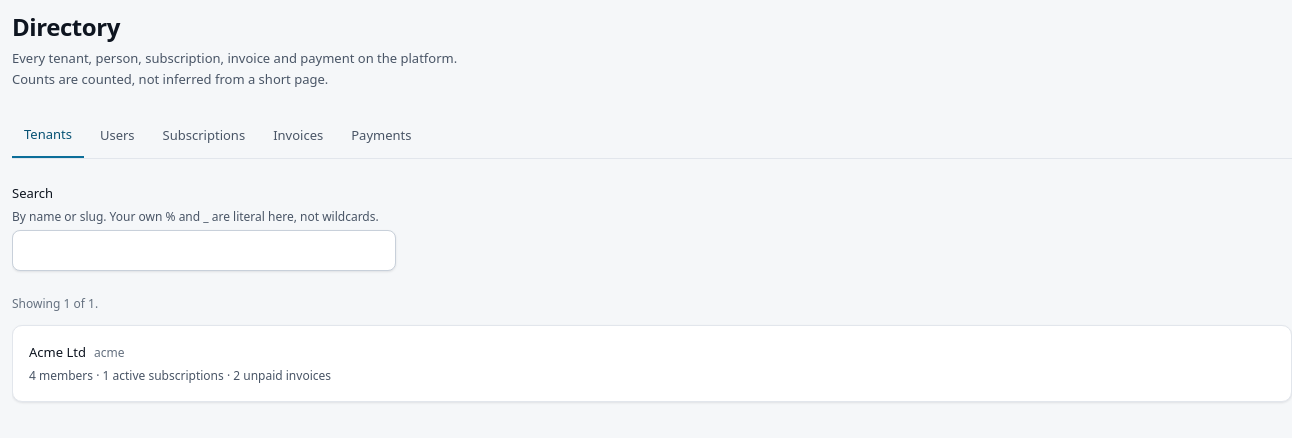
Test: the tab › clears the filter, because it means something different on each listing
Expected: the text "Acme Ltd" is shown, [29,342,86,363]
Type "acme" into the field labelled "Search" at (204, 250), box [12,230,396,271]
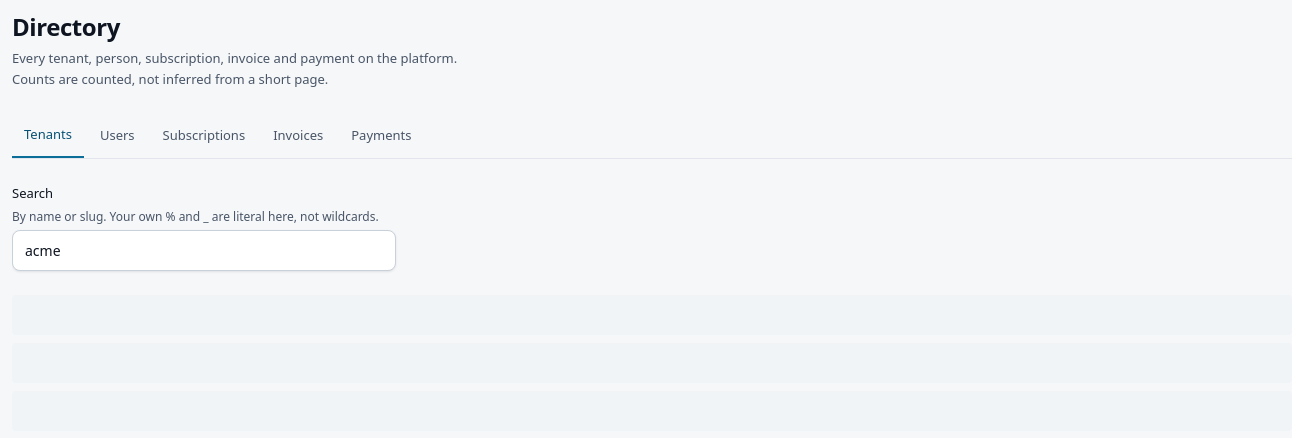
Click the button "users" at (117, 136), box [88,114,147,158]
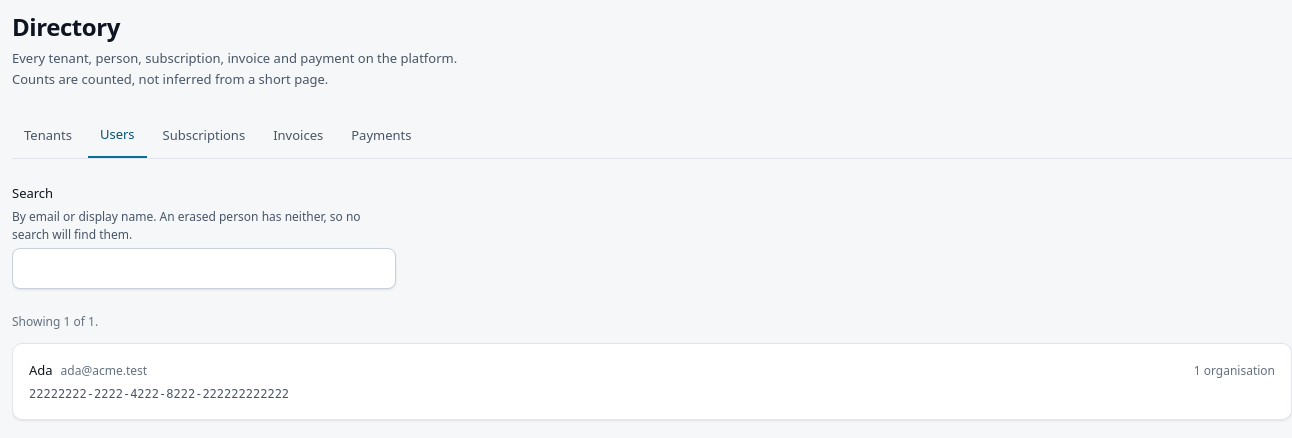
Now the text "Ada" is shown, box [29,360,53,381]
